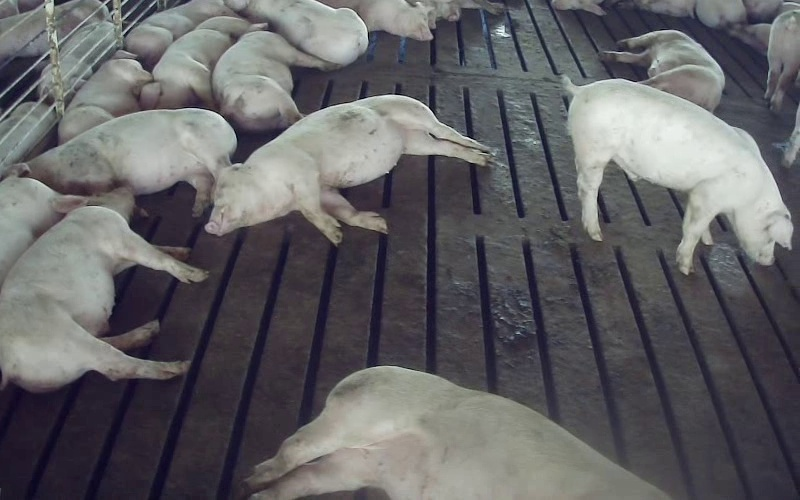pig: (245, 366, 668, 499), (563, 76, 790, 273), (205, 95, 492, 244), (0, 189, 207, 391), (26, 108, 236, 215), (212, 31, 339, 132), (139, 16, 267, 109), (599, 31, 724, 111), (225, 0, 367, 65), (58, 51, 152, 143), (125, 0, 236, 70), (325, 0, 435, 40)
